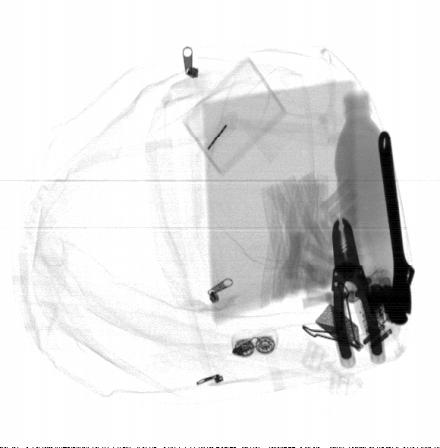Pliers: (330, 216, 387, 370)
Wrench: (377, 131, 415, 326)
